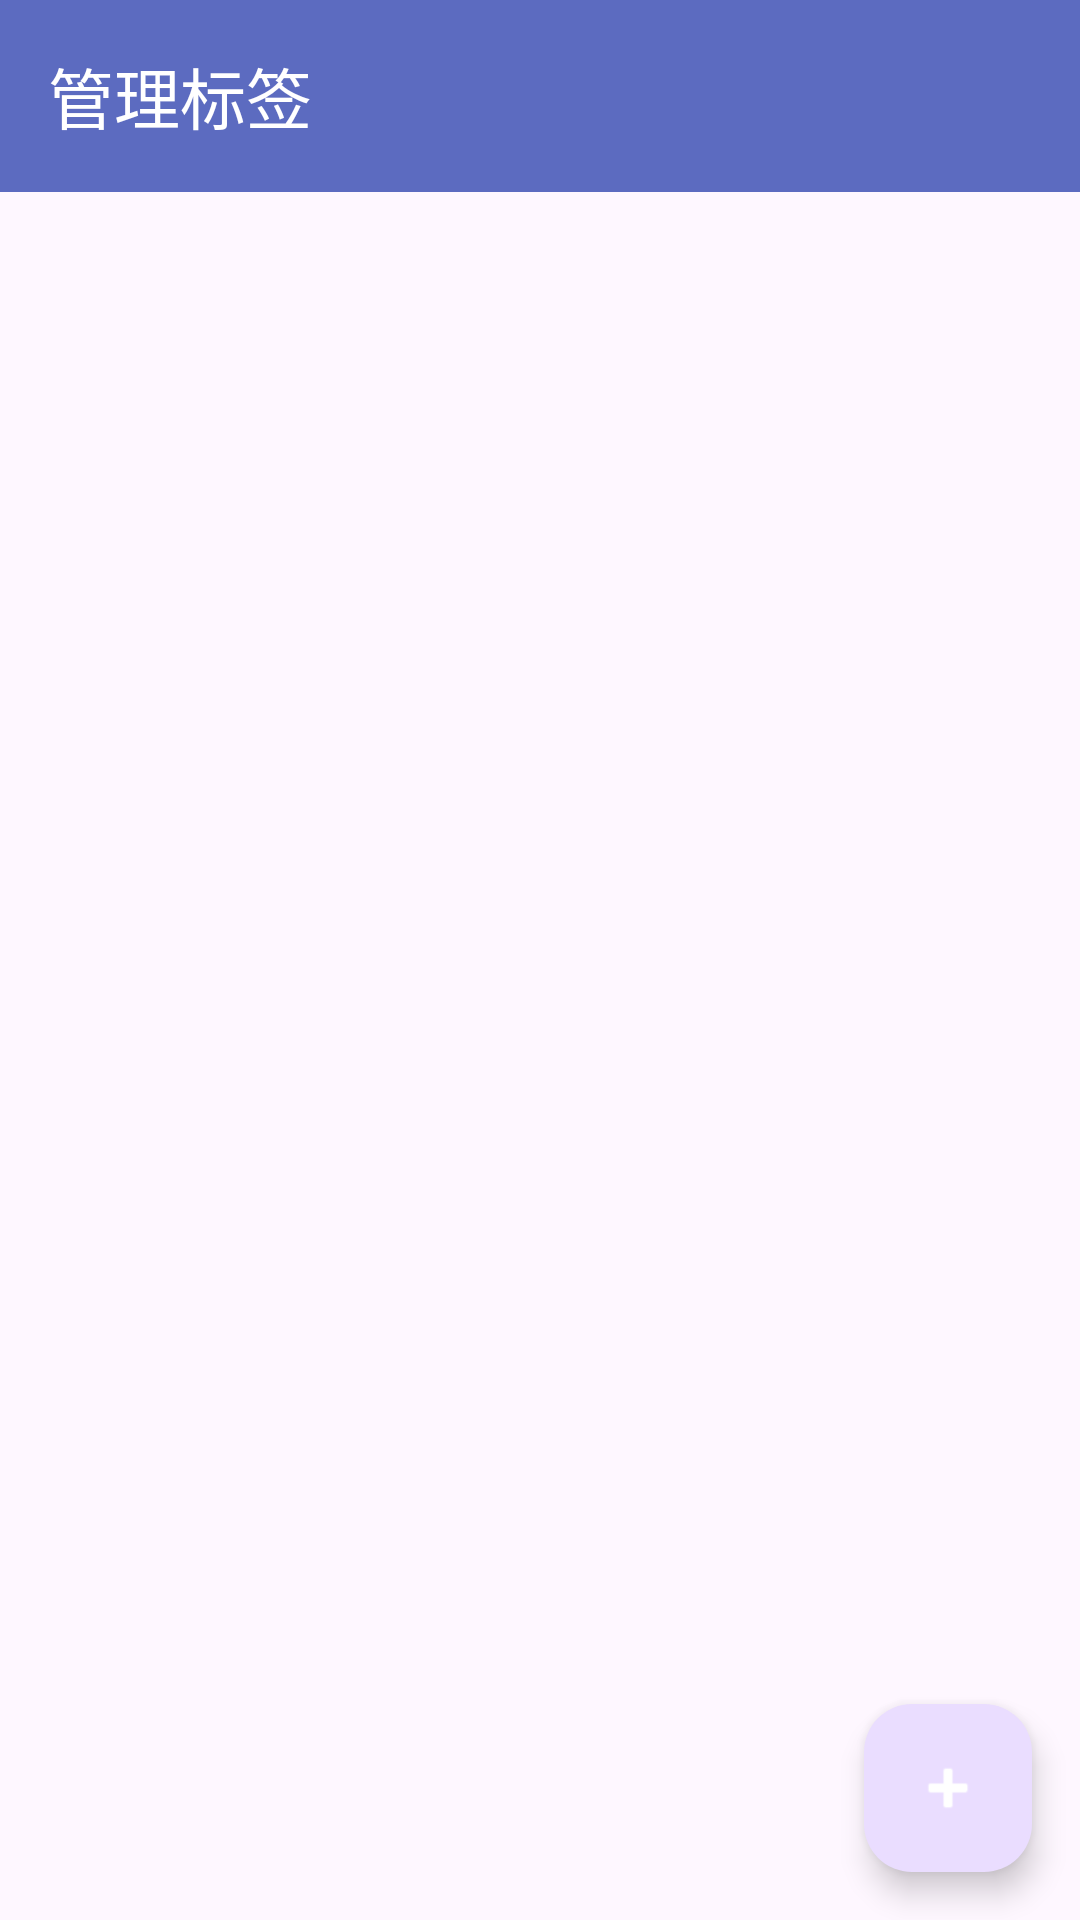

Icon bounding boxes for this 1080*1920 phone screenshot, format (x1, y1, x2, y2):
添加标签: (864, 1704, 1032, 1872)
